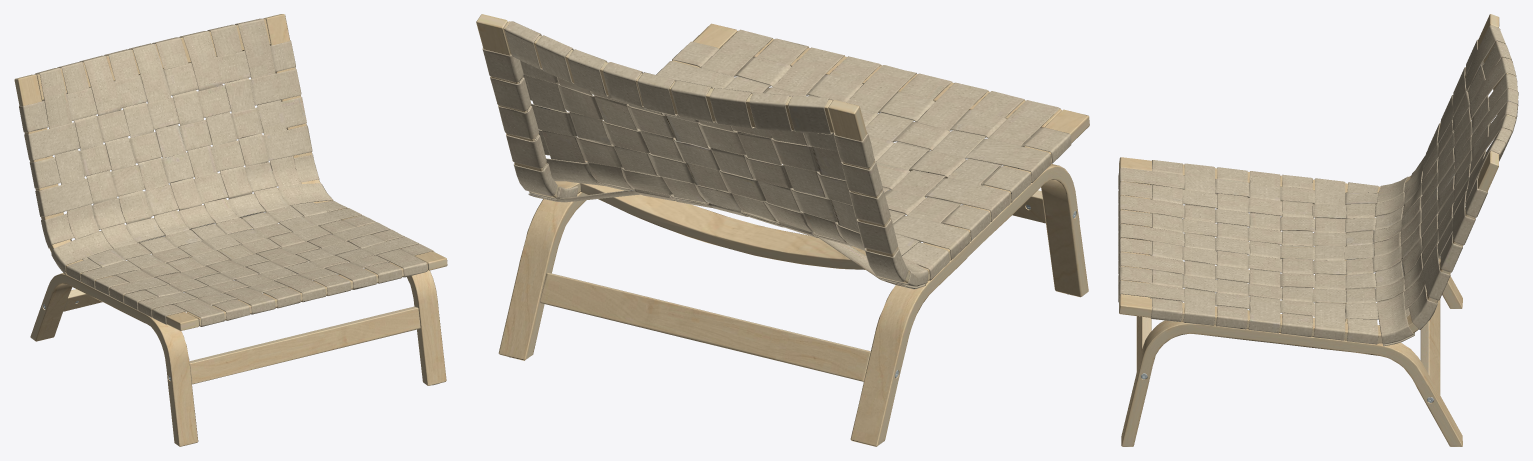
Rendered from 21-STOCKHOLM 2025 easy chair - birch veneer (80594785).glb.
3 views of the same model, side by side, from view 1: azimuth 30°, elevation 25°; view 2: azimuth 150°, elevation 25°; view 3: azimuth 270°, elevation 25° (orthographic). The views are drawn at different scales.
Visible parts, largest first — view 1: ASY_LPT01_80594785_S01_NV01, ASY_ART_80594785_S01_NV01; view 2: ASY_LPT01_80594785_S01_NV01, ASY_ART_80594785_S01_NV01; view 3: ASY_LPT01_80594785_S01_NV01, ASY_ART_80594785_S01_NV01.
Boxes of the visible parts, x1,y1,x2,y2 form: ASY_LPT01_80594785_S01_NV01: (14,14,447,331); ASY_ART_80594785_S01_NV01: (30,270,446,446); ASY_LPT01_80594785_S01_NV01: (476,14,1089,289); ASY_ART_80594785_S01_NV01: (498,164,1088,446); ASY_LPT01_80594785_S01_NV01: (1118,14,1518,345); ASY_ART_80594785_S01_NV01: (1121,189,1462,446).
Size of the model in its own units: 0.7046 by 0.6285 by 0.7955.
Materials: 2 (2 with a texture image).
